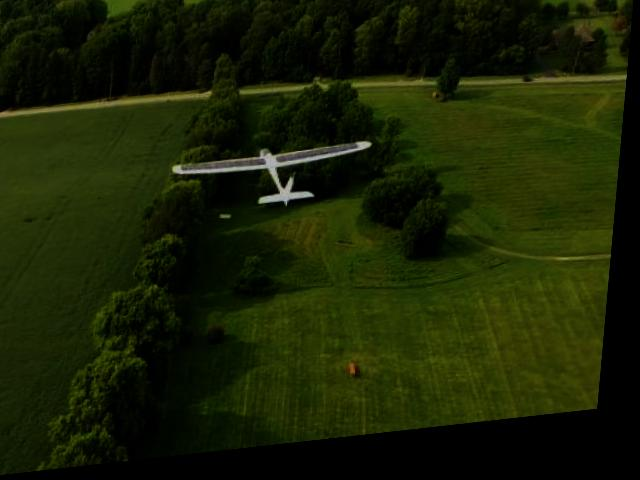uav: (164, 136, 380, 234)
